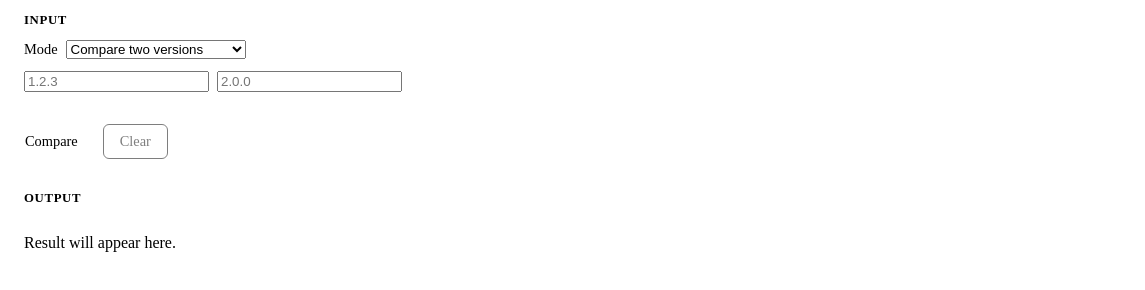
Test case: SemverComparatorTool › shows equality for identical versions
In the field named "Version A": (116, 82) [24, 71, 209, 92], type "v1.2.3"
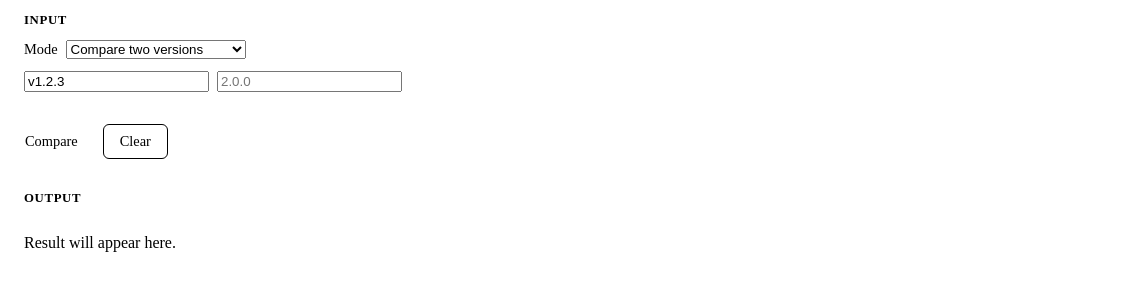
In the field named "Version B": (310, 82) [217, 71, 402, 92], type "1.2.3+build"
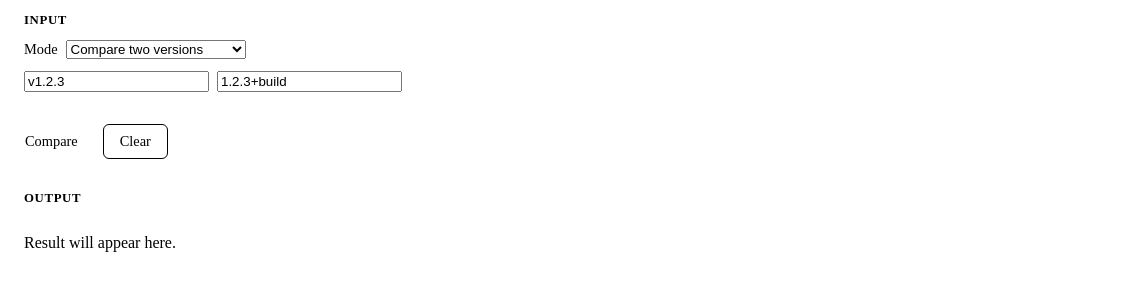
Click the button "Compare": click(51, 142) [8, 124, 95, 159]
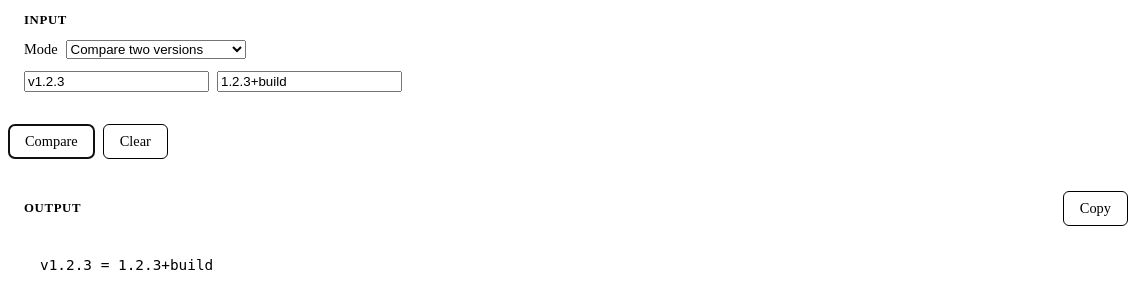
Expected: the text with test id "compare-output" reads "v1.2.3 = 1.2.3+build", [40, 257, 213, 273]
